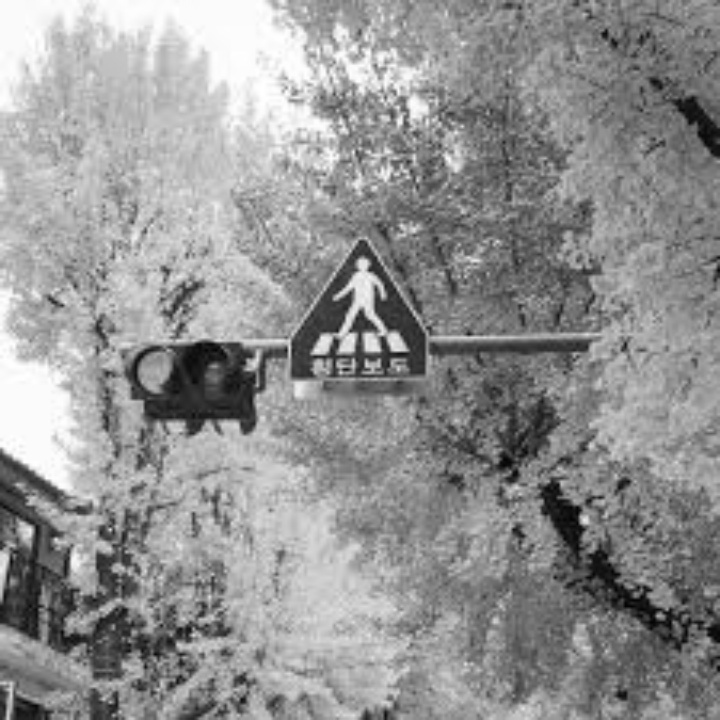cross: (308, 248, 415, 357)
